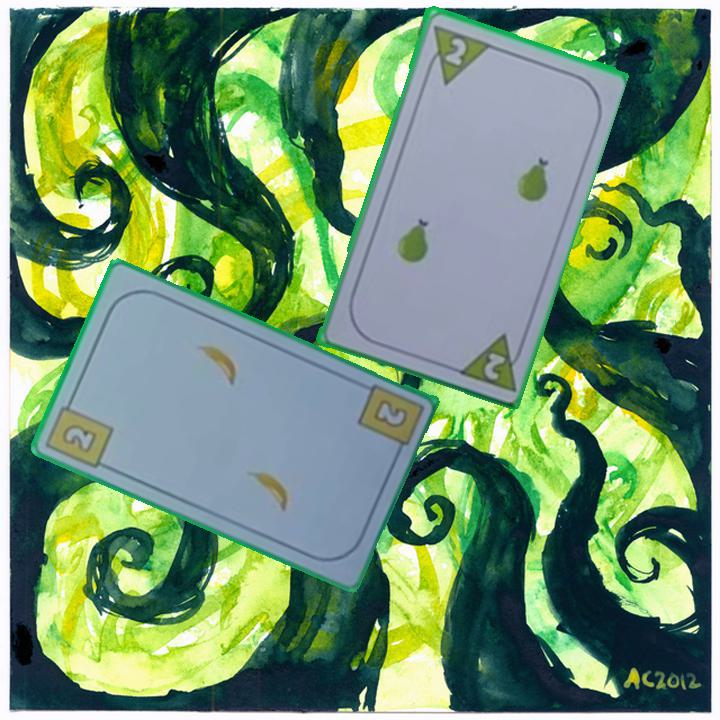2b: (43, 392, 117, 472), (369, 395, 410, 432)
2p: (452, 328, 529, 394), (441, 33, 470, 68)
